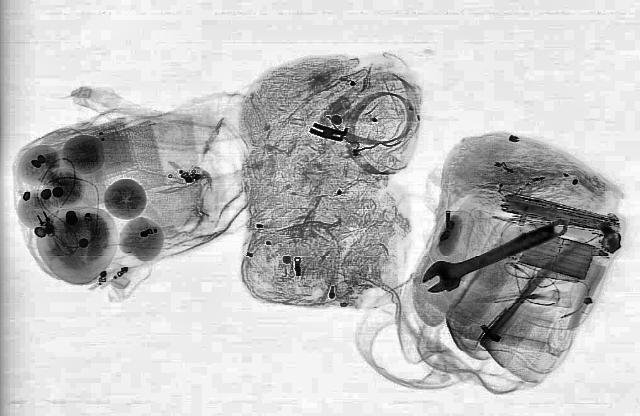Wrench: (406, 210, 582, 298)
